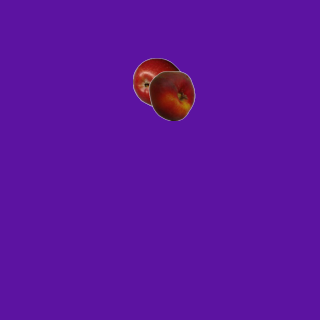Apple Braeburn: (132, 57, 182, 107)
Nectarine Flat: (146, 70, 196, 120)
